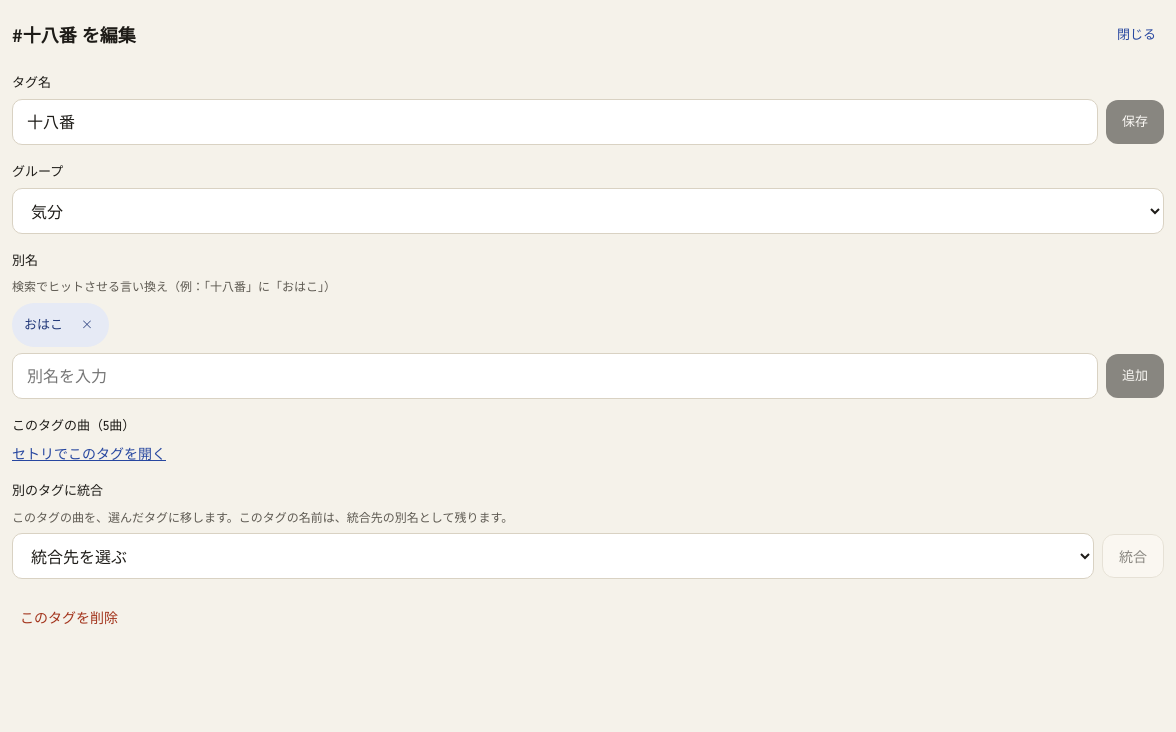
Test: TagEditor › 失敗はエラーとして出す（メッセージがなければ汎用の文言）
The image size is (1176, 732).
In the field labelled "タグ名": (555, 122) [12,99,1098,145], type "x"
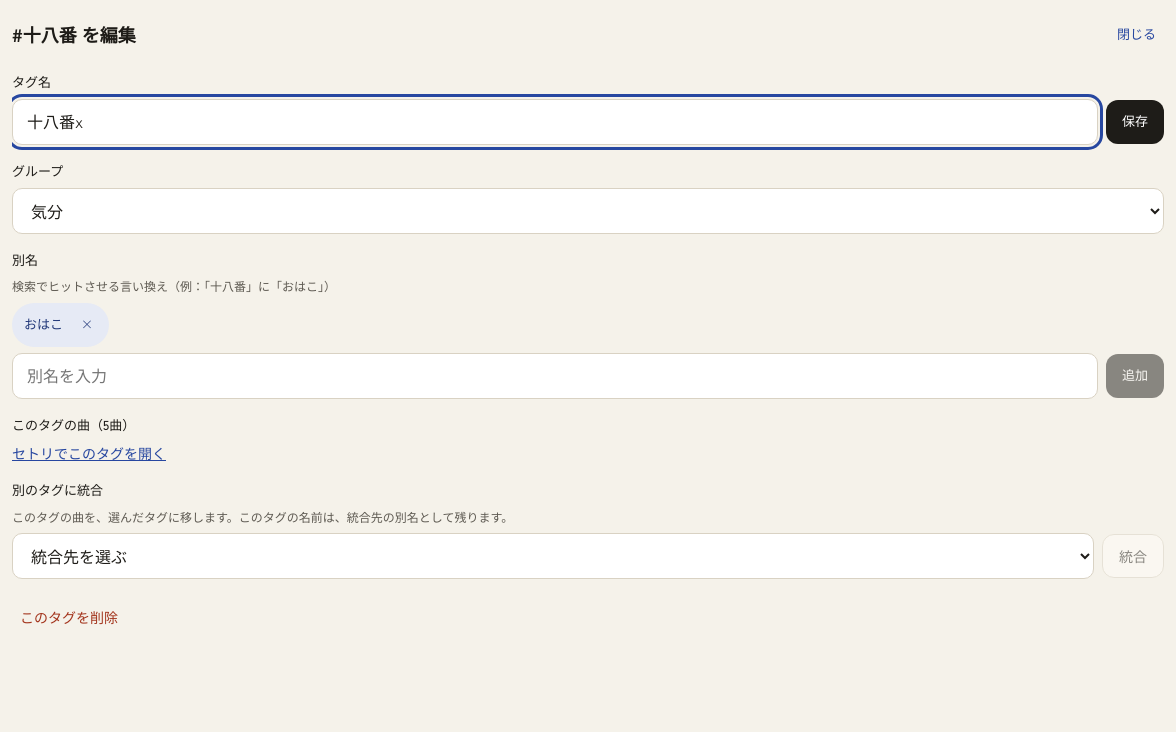
Click the button "保存": (1135, 122) [1106,100,1164,144]
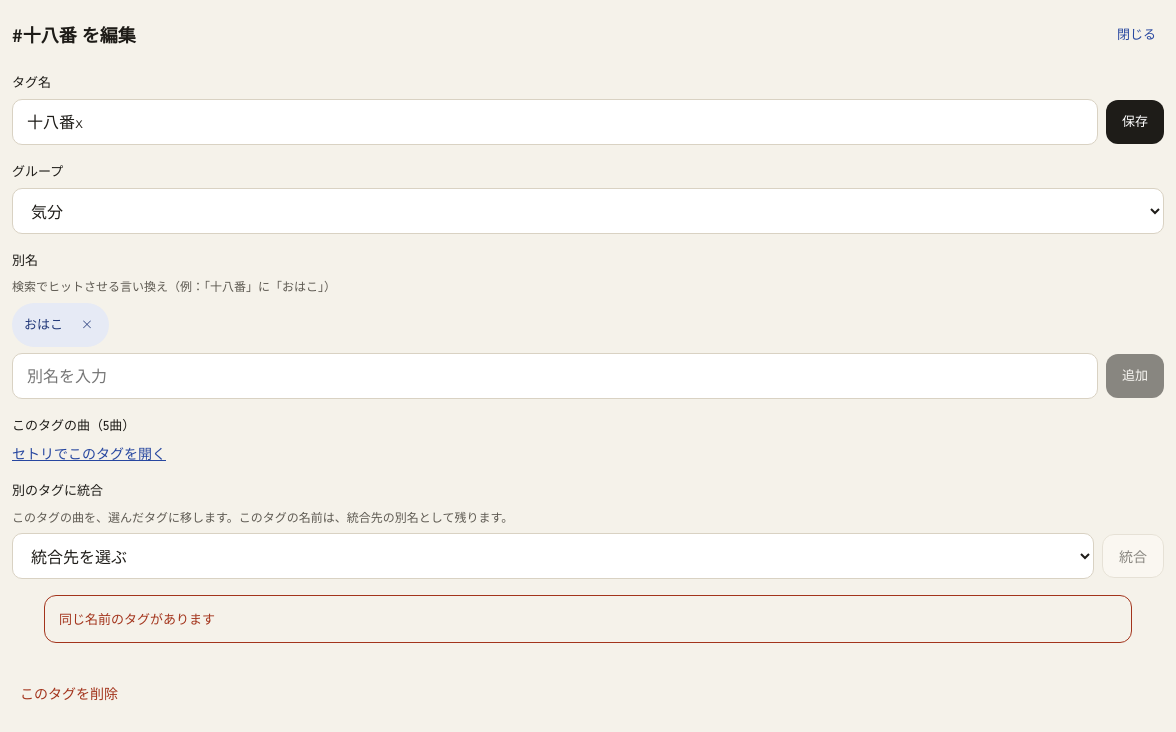
Result: the message reads "同じ名前のタグがあります" at [59,609,215,628]
// 保存のトランジションが終わるまでグループの選択欄は押せない（押しても何も起きない）
Select "マイタグ（グループなし）" in the dropdown labelled "グループ": (588, 211) [12,188,1164,234]
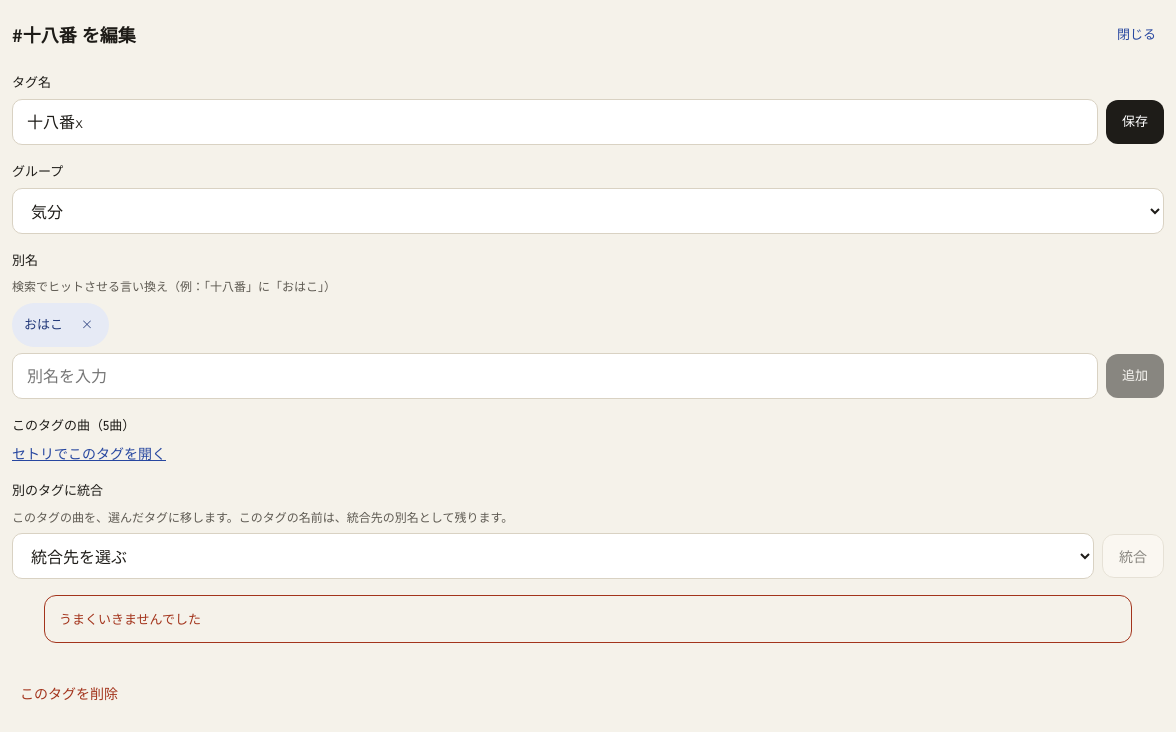
Result: the message reads "うまくいきませんでした" at [59,609,201,628]
